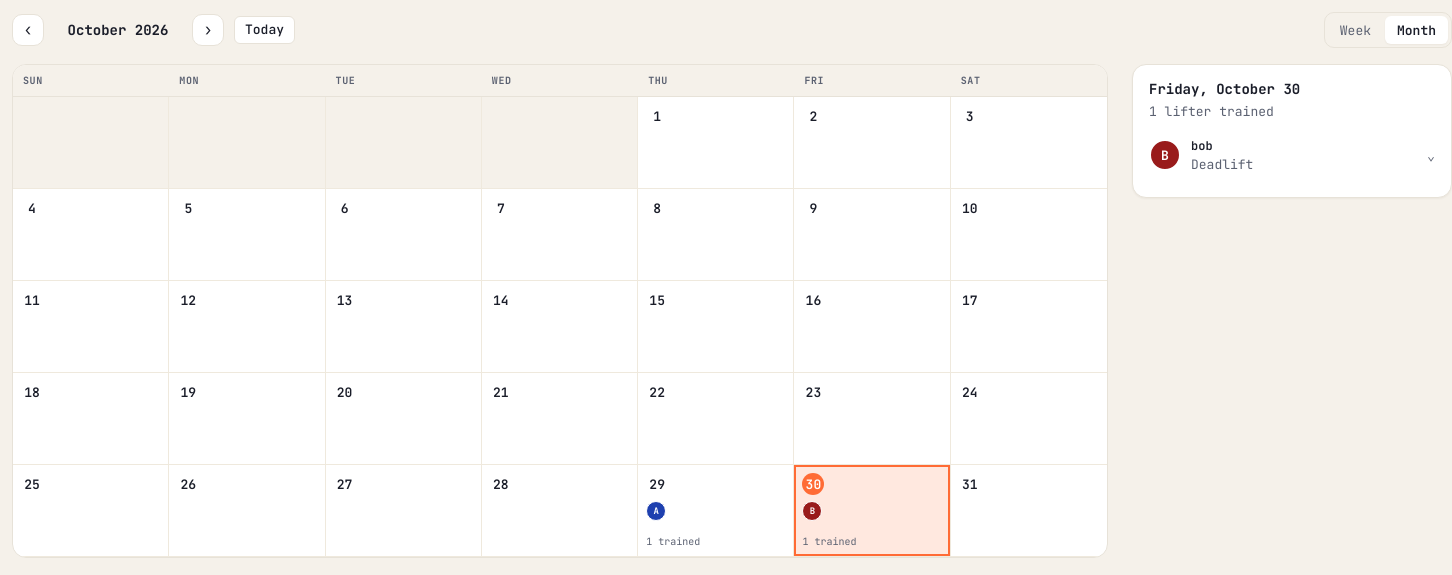
Test case: SharedCalendar — day panel › picking another day lists its lifters; a row opens in place to show the sets
Click the button "29 A 1 trained".
click(716, 511)  # box [638,465,794,557]
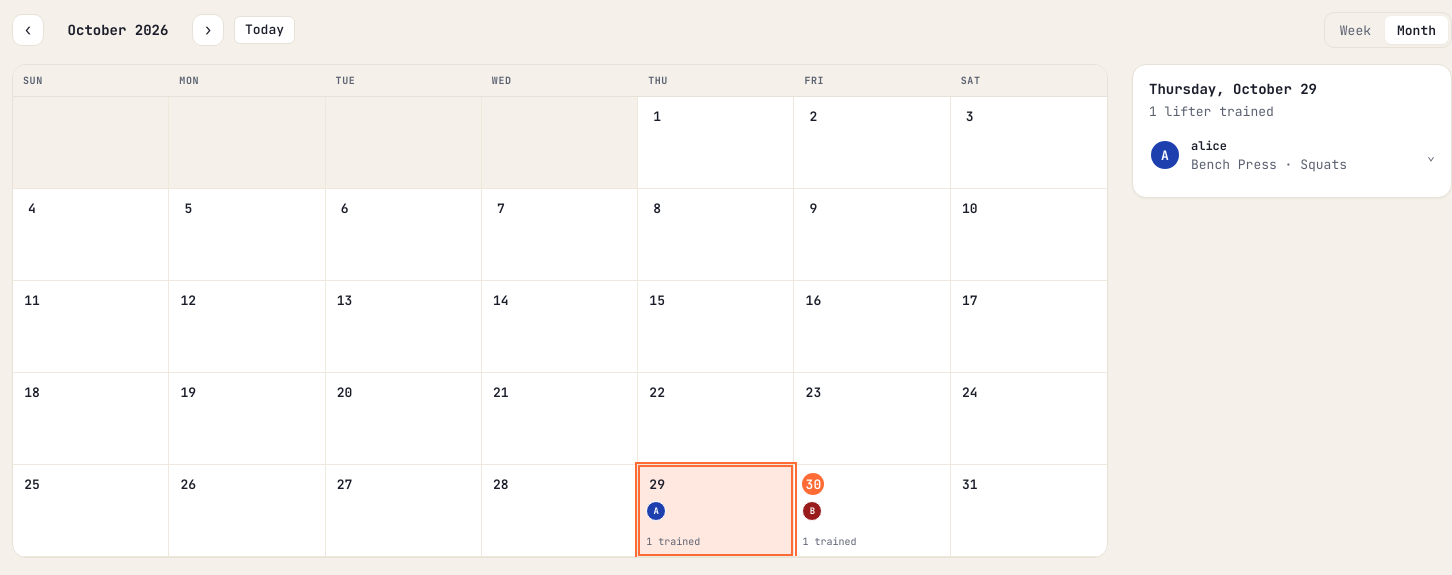
Expected: the text "4 reps @ 185 lbs" is not shown
Click the button "A alice Bench Press · Squats ⌄".
click(1292, 155)  # box [1149,128,1435,182]
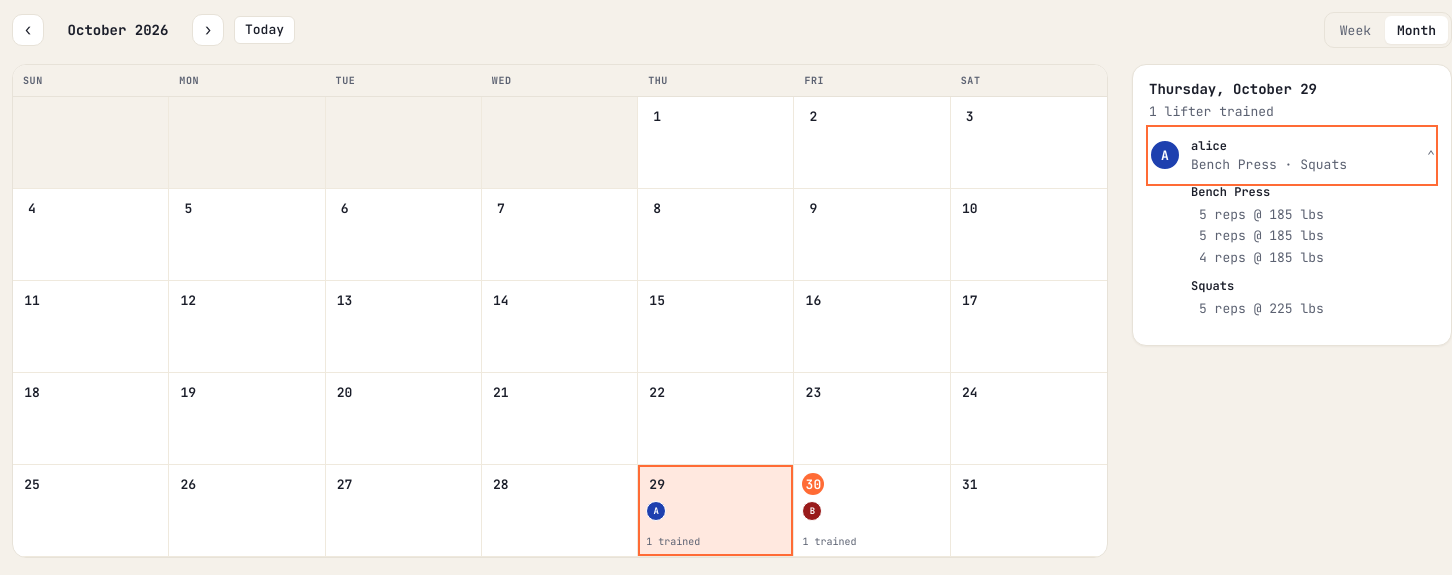
Expected: the text "5 reps @ 185 lbs" is shown 2 times, [1199,206,1324,222]; [1199,227,1324,244]
Expected: the text "4 reps @ 185 lbs" is shown, [1199,248,1324,266]
